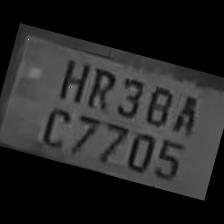0: (121, 125, 158, 174)
3: (107, 69, 149, 122)
5: (146, 132, 188, 184)
7: (63, 106, 102, 160), (91, 113, 129, 166)
8: (138, 79, 178, 130)
A: (166, 87, 204, 137)
C: (35, 98, 75, 151)
H: (50, 50, 93, 106)
R: (79, 60, 119, 113)
